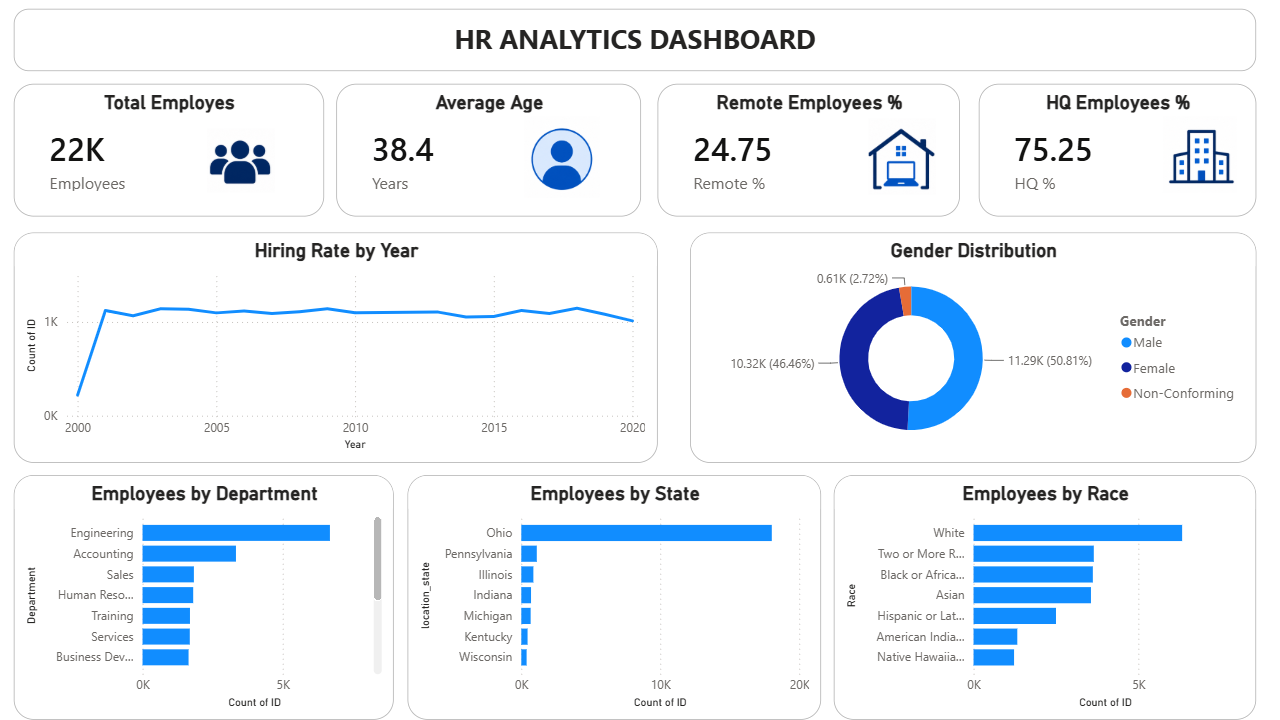

Layout of this report page (visuals, bound fields, positions):
{"tool":"powerbi","page":{"name":"Page 1","canvas":[1280,720],"ordinal":0},"visuals":[{"type":"cardVisual","title":"Total Employes","fields":{"Data":["HR_Table_1.Total_Employees"]},"box":[13.8,83.8,310,132.5],"z":0},{"type":"cardVisual","title":"Average Age","fields":{"Data":["HR_Table_1.Average Age Display"]},"box":[336.2,83.8,305,132.5],"z":1000},{"type":"cardVisual","title":"Remote Employees %","fields":{"Data":["HR_Table_1.Remote %"]},"box":[657.5,83.8,302.5,132.5],"z":2000},{"type":"cardVisual","title":"HQ Employees %","fields":{"Data":["HR_Table_1.HQ %"]},"box":[978.8,83.8,277.5,132.5],"z":3000},{"type":"lineChart","title":"Hiring Rate by Year","fields":{"Category":["HR_Table_1.Hire_date.Variation.Date Hierarchy.Year"],"Y":["CountNonNull(HR_Table_1.ID)"]},"box":[13.8,232.5,643.8,230],"z":4000},{"type":"donutChart","title":"Gender Distribution","fields":{"Category":["HR_Table_1.Gender"],"Y":["CountNonNull(HR_Table_1.ID)"]},"box":[690,232.5,566.2,230],"z":5000},{"type":"clusteredBarChart","title":"Employees by Department","fields":{"Category":["HR_Table_1.Department"],"Y":["CountNonNull(HR_Table_1.ID)"]},"box":[13.8,475,380,245],"z":6000},{"type":"clusteredBarChart","title":"Employees by State","fields":{"Category":["HR_Table_1.location_state"],"Y":["CountNonNull(HR_Table_1.ID)"]},"box":[407.5,475,413.8,245],"z":7000},{"type":"clusteredBarChart","title":"Employees by Race","fields":{"Category":["HR_Table_1.Race"],"Y":["CountNonNull(HR_Table_1.ID)"]},"box":[833.8,475,422.5,245],"z":8000},{"type":"textbox","box":[13.8,8.8,1242.5,62.5],"z":9000},{"type":"image","box":[203.8,128.8,75,63.8],"z":10000},{"type":"image","box":[497.5,116.2,128.8,81.2],"z":11000},{"type":"image","box":[857.5,118.8,90,76.2],"z":12000},{"type":"image","box":[1151.2,116.2,97.5,76.2],"z":13000}]}

Visuals, with their boxes in screenshot pixels (x1, y1, x2, y2), scaled from the page's 1280x720 canvas onto the 1280x720 screenshot:
"Total Employes" cardVisual: box=[14, 84, 324, 216]
"Average Age" cardVisual: box=[336, 84, 641, 216]
"Remote Employees %" cardVisual: box=[658, 84, 960, 216]
"HQ Employees %" cardVisual: box=[979, 84, 1256, 216]
"Hiring Rate by Year" lineChart: box=[14, 232, 658, 462]
"Gender Distribution" donutChart: box=[690, 232, 1256, 462]
"Employees by Department" clusteredBarChart: box=[14, 475, 394, 719]
"Employees by State" clusteredBarChart: box=[408, 475, 821, 719]
"Employees by Race" clusteredBarChart: box=[834, 475, 1256, 719]
textbox: box=[14, 9, 1256, 71]
image: box=[204, 129, 279, 193]
image: box=[498, 116, 626, 197]
image: box=[858, 119, 948, 195]
image: box=[1151, 116, 1249, 192]
